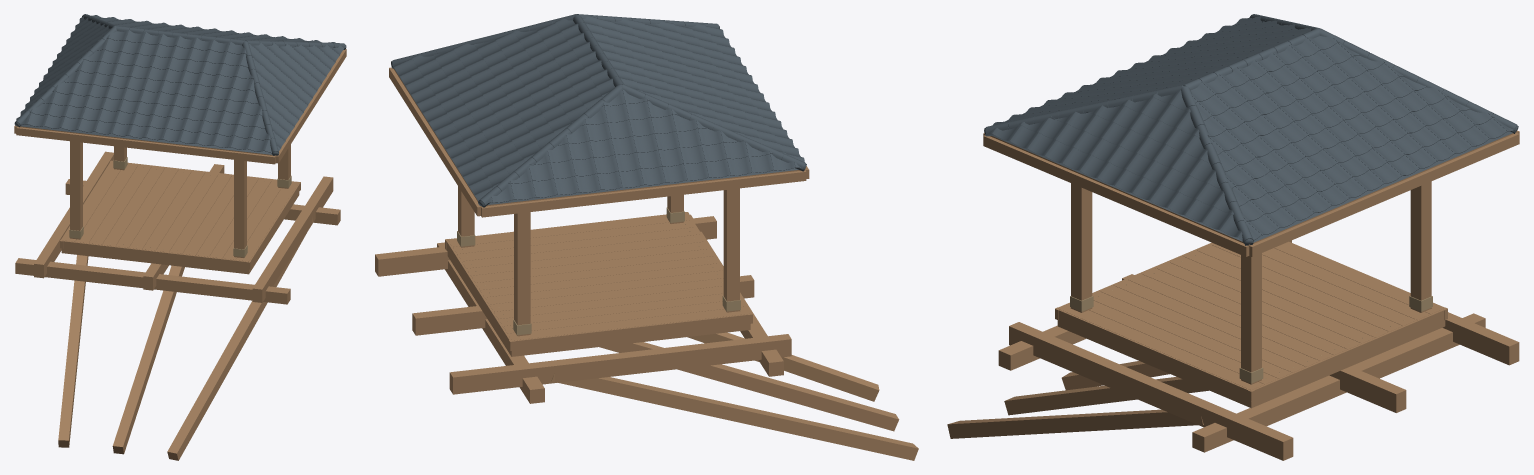
File: yokocho-noh-pavilion.glb
3 views of the same model, side by side, from view 1: azimuth 30°, elevation 25°; view 2: azimuth 150°, elevation 25°; view 3: azimuth 270°, elevation 25° (orthographic). The views are drawn at different scales.
Parts seen in each view (by area): view 1: Stage/Noh/RoofDetail/Courses__Kawara, Stage/Noh/Floor__StageCypress, Stage/Noh/Support__DarkTimber, Stage/Noh/Support__Cedar, Stage/Noh/HipRoof__StageCypress, Stage/Noh/Posts__StageCypress, Stage/Noh/RoofDetail/Caps__Kawara, Stage/Noh/Floor__DarkTimber, Stage/Noh/HipRoof__Kawara, Stage/Noh/Posts__Bronze, Stage/Noh/HipRoof__DarkTimber; view 2: Stage/Noh/RoofDetail/Courses__Kawara, Stage/Noh/Floor__StageCypress, Stage/Noh/Support__DarkTimber, Stage/Noh/Support__Cedar, Stage/Noh/HipRoof__StageCypress, Stage/Noh/RoofDetail/Caps__Kawara, Stage/Noh/Posts__StageCypress, Stage/Noh/Floor__DarkTimber, Stage/Noh/HipRoof__Kawara, Stage/Noh/Posts__Bronze, Stage/Noh/HipRoof__DarkTimber; view 3: Stage/Noh/RoofDetail/Courses__Kawara, Stage/Noh/Floor__StageCypress, Stage/Noh/Support__DarkTimber, Stage/Noh/Support__Cedar, Stage/Noh/Posts__StageCypress, Stage/Noh/HipRoof__StageCypress, Stage/Noh/RoofDetail/Caps__Kawara, Stage/Noh/Floor__DarkTimber, Stage/Noh/HipRoof__Kawara, Stage/Noh/HipRoof__DarkTimber, Stage/Noh/Posts__Bronze.
Part boxes in pixels (x1,y1,x2,y2): Stage/Noh/RoofDetail/Courses__Kawara: (16, 15, 344, 153); Stage/Noh/Floor__StageCypress: (60, 160, 300, 269); Stage/Noh/Support__DarkTimber: (15, 151, 340, 304); Stage/Noh/Support__Cedar: (58, 217, 313, 460); Stage/Noh/HipRoof__StageCypress: (14, 49, 346, 164); Stage/Noh/Posts__StageCypress: (70, 141, 290, 257); Stage/Noh/RoofDetail/Caps__Kawara: (15, 14, 345, 153); Stage/Noh/Floor__DarkTimber: (61, 192, 299, 274); Stage/Noh/HipRoof__Kawara: (14, 26, 346, 155); Stage/Noh/Posts__Bronze: (69, 157, 291, 257); Stage/Noh/HipRoof__DarkTimber: (17, 126, 275, 155); Stage/Noh/RoofDetail/Courses__Kawara: (392, 16, 804, 203); Stage/Noh/Floor__StageCypress: (445, 212, 752, 350); Stage/Noh/Support__DarkTimber: (375, 214, 791, 403); Stage/Noh/Support__Cedar: (551, 332, 918, 460); Stage/Noh/HipRoof__StageCypress: (389, 67, 809, 217); Stage/Noh/RoofDetail/Caps__Kawara: (392, 14, 805, 205); Stage/Noh/Posts__StageCypress: (458, 186, 739, 336); Stage/Noh/Floor__DarkTimber: (447, 252, 750, 356); Stage/Noh/HipRoof__Kawara: (391, 22, 806, 207); Stage/Noh/Posts__Bronze: (457, 207, 740, 335); Stage/Noh/HipRoof__DarkTimber: (393, 68, 805, 206); Stage/Noh/RoofDetail/Courses__Kawara: (989, 16, 1514, 240); Stage/Noh/Floor__StageCypress: (1055, 241, 1447, 401); Stage/Noh/Support__DarkTimber: (998, 240, 1519, 460); Stage/Noh/Support__Cedar: (947, 361, 1208, 438); Stage/Noh/Posts__StageCypress: (1071, 181, 1431, 384); Stage/Noh/HipRoof__StageCypress: (983, 130, 1519, 256); Stage/Noh/RoofDetail/Caps__Kawara: (985, 14, 1516, 242); Stage/Noh/Floor__DarkTimber: (1057, 320, 1445, 408); Stage/Noh/HipRoof__Kawara: (984, 28, 1518, 245); Stage/Noh/HipRoof__DarkTimber: (990, 131, 1516, 245); Stage/Noh/Posts__Bronze: (1070, 296, 1432, 383).
Bounding box in the file's own units: 8.77 × 7.73 × 8.77.
7 materials, 2 textured.
